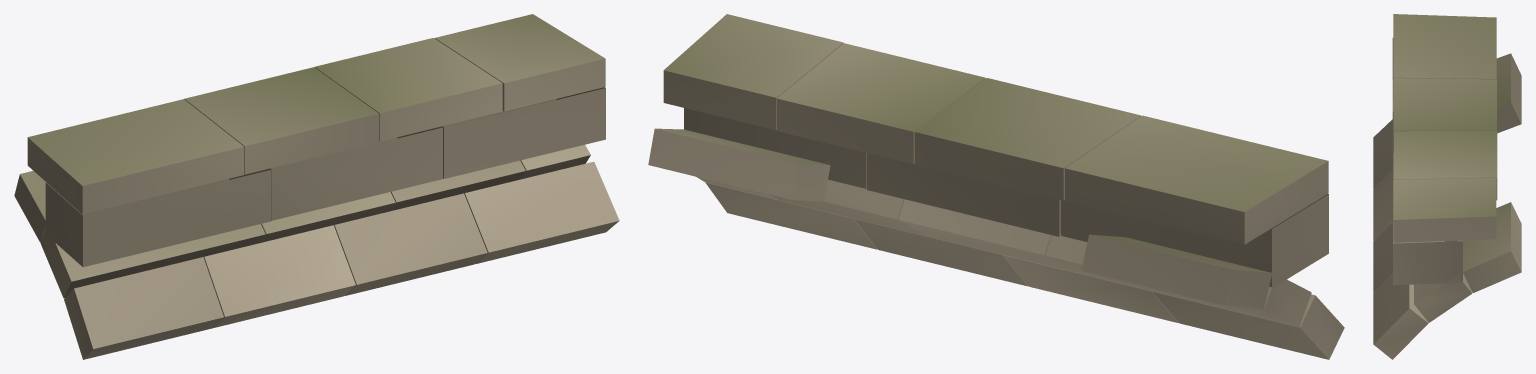
The model's file is arena_vault_broken_a_mid.glb.
3 views of the same model, side by side, from view 1: azimuth 30°, elevation 25°; view 2: azimuth 150°, elevation 25°; view 3: azimuth 270°, elevation 25° (orthographic). The views are drawn at different scales.
Parts seen in each view (by area): view 1: arena_vault_broken_a_mid; view 2: arena_vault_broken_a_mid; view 3: arena_vault_broken_a_mid.
Part boxes in pixels (x1,y1,x2,y2): arena_vault_broken_a_mid: (14, 14, 619, 359); arena_vault_broken_a_mid: (648, 14, 1344, 359); arena_vault_broken_a_mid: (1373, 14, 1521, 359).
Bounding box in the file's own units: 18.88 × 5.94 × 5.69.
